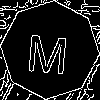M: (25, 25, 71, 75)
